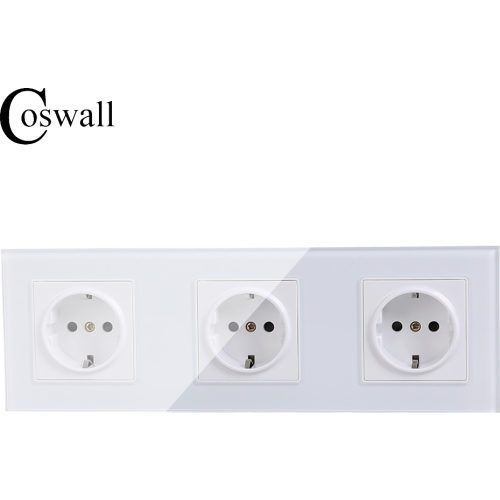raccoon: (369, 285, 459, 373), (205, 286, 290, 372), (40, 288, 125, 373)
